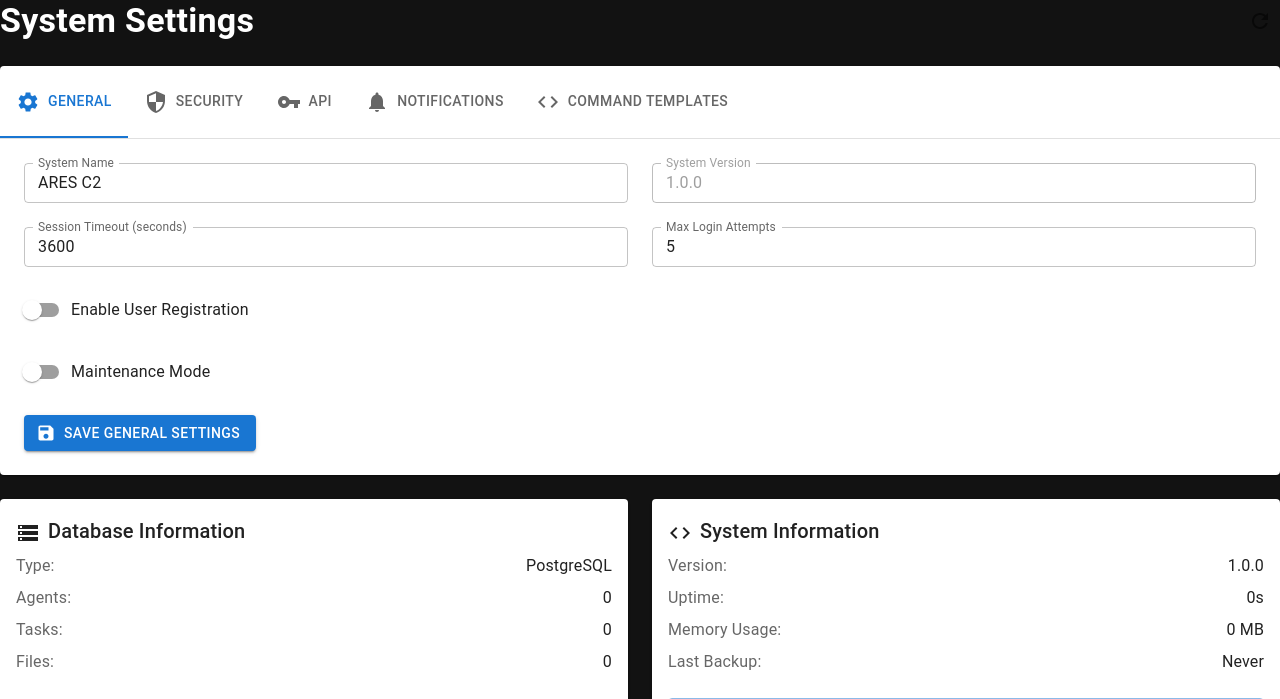
Settings command templates UI › edit template opens dialog and saves via API
Open the Command Templates tab
Step 1. Click the tab "Command Templates" → [632, 102], box [520,66,744,138]
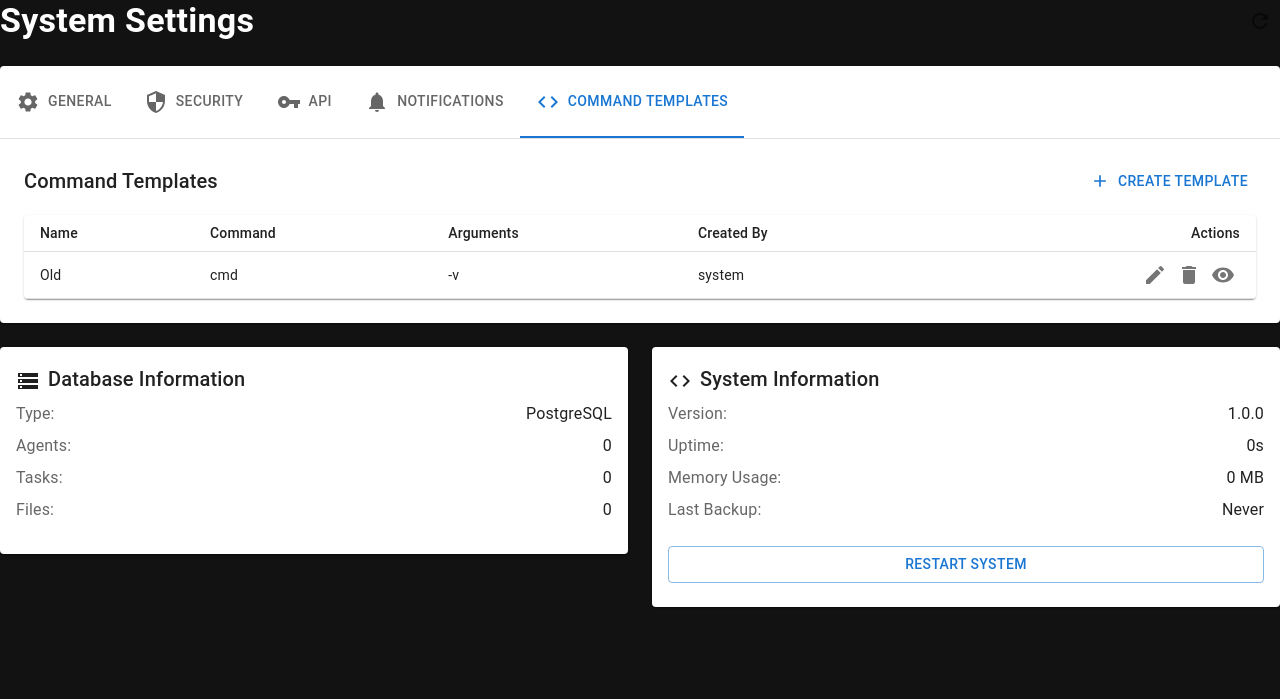
Click edit button within the template's row
Step 2. Click the button named "Edit" → [1155, 276], box [1138,258,1172,292]
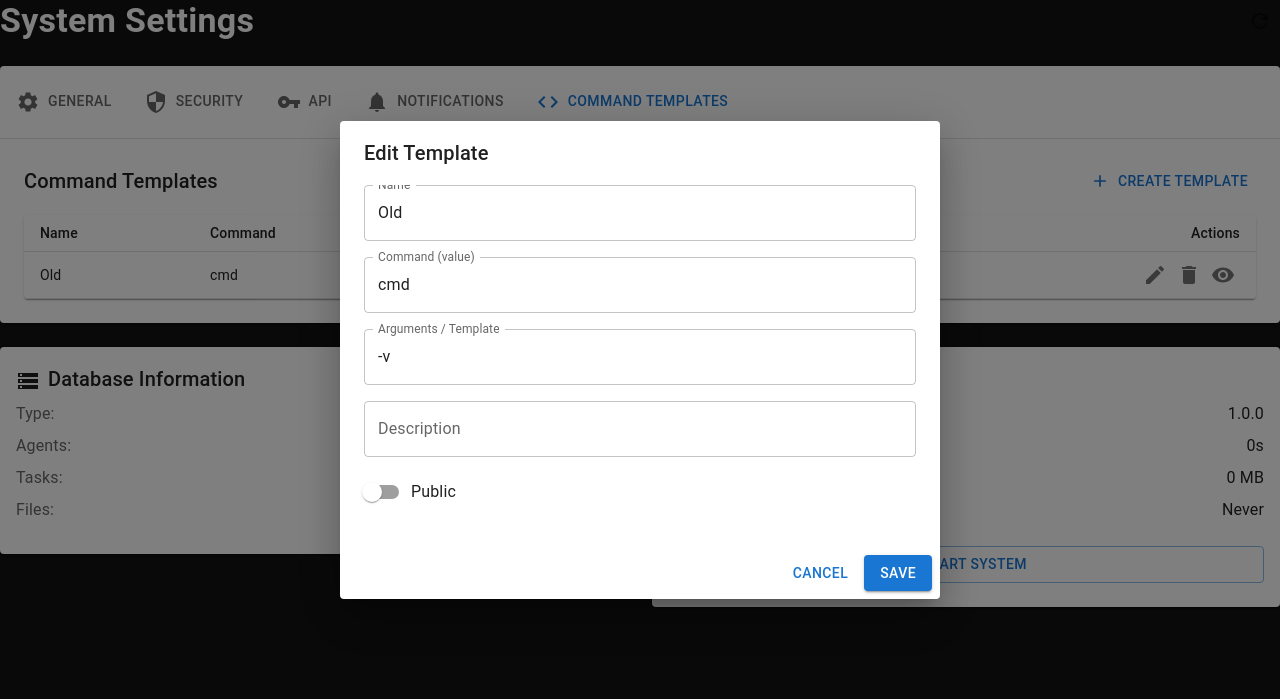
Now the field labelled "Name" is shown
change name
Step 3. Replace the text in the field labelled "Name" with "NewName" → [640, 213], box [364,185,916,241]
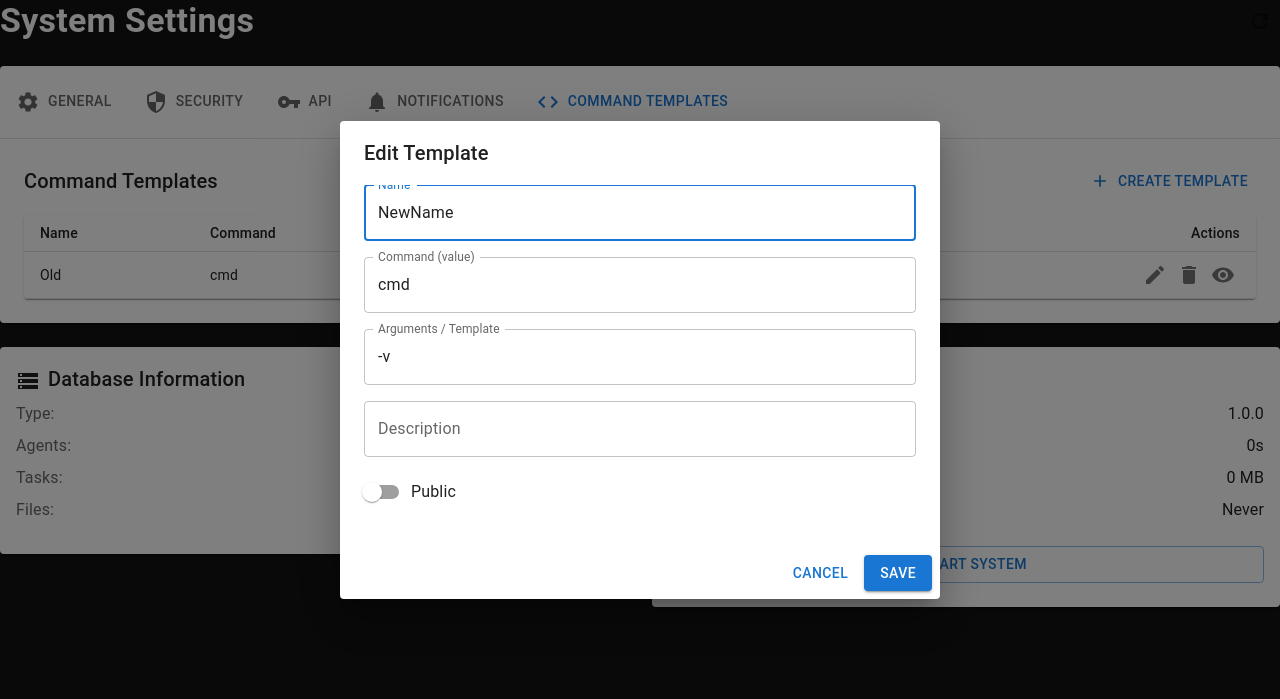
click Save
Step 4. Click the button "Save" → [898, 573], box [864,555,932,591]
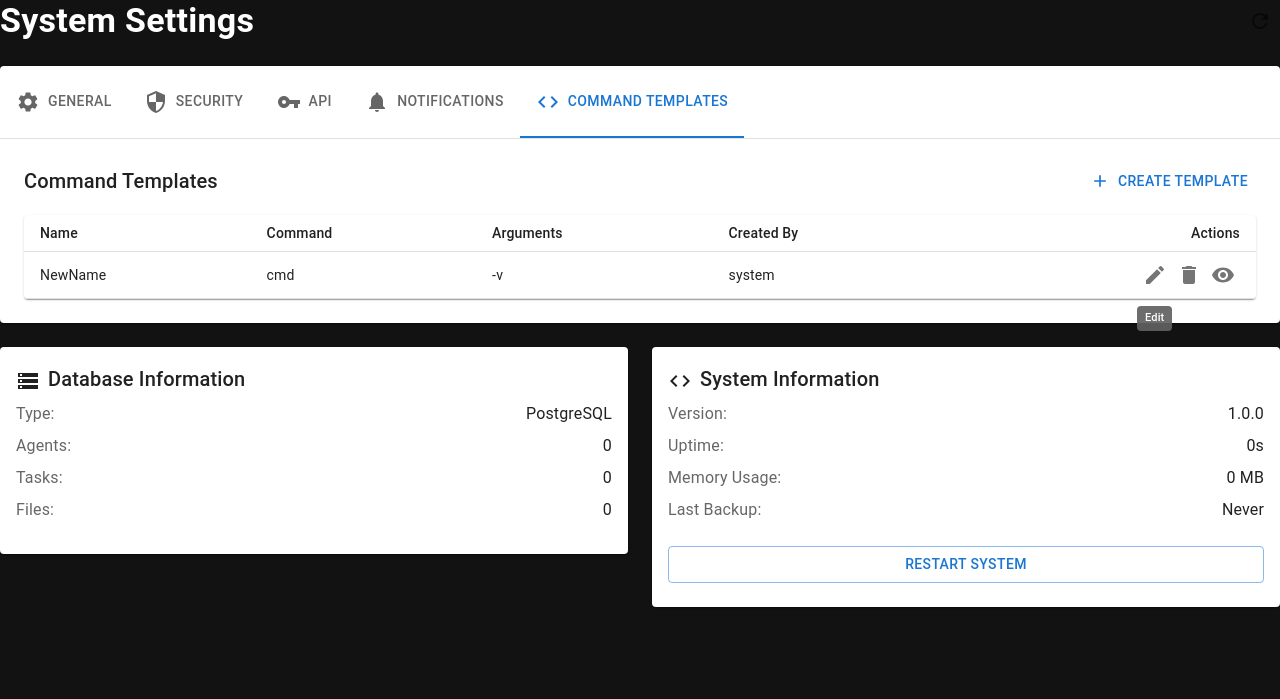
Now the text "NewName" is shown, box [24,252,251,299]
